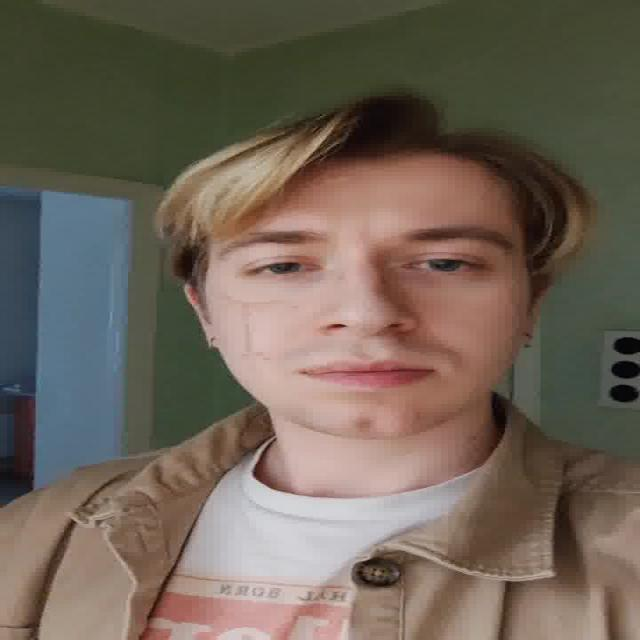earlobe: (202, 323, 222, 349)
eye: (243, 257, 323, 278), (404, 256, 484, 275)
nose: (318, 326, 417, 358)
wholeear: (181, 281, 222, 349)
